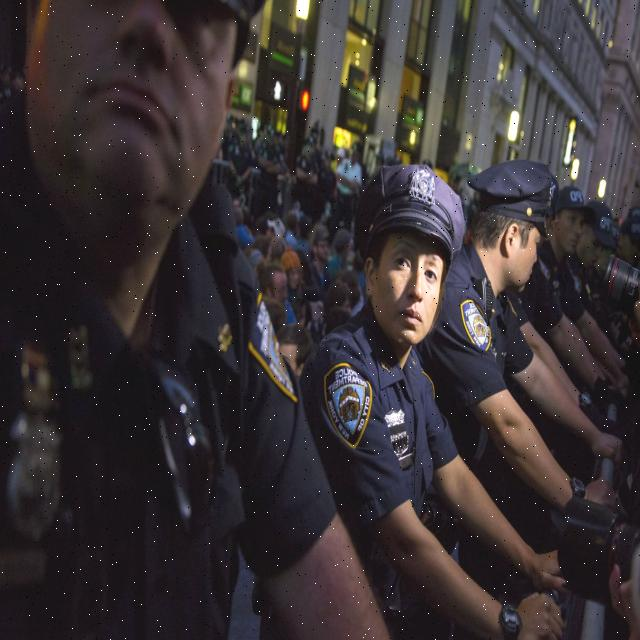police: (304, 144, 568, 640), (445, 118, 630, 565)
